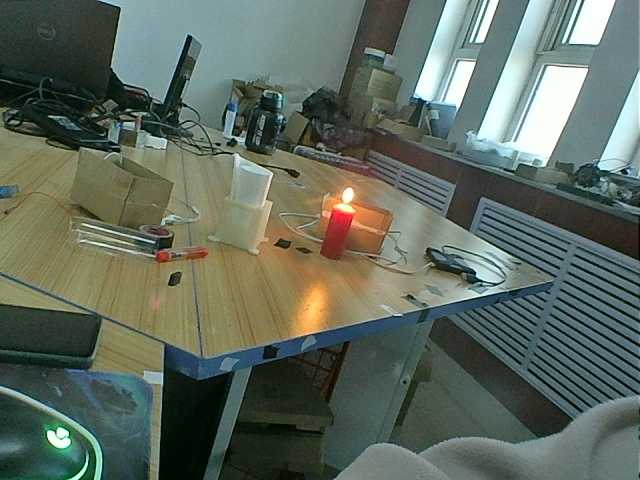candle: (312, 207, 352, 256)
fire: (339, 181, 362, 210)
